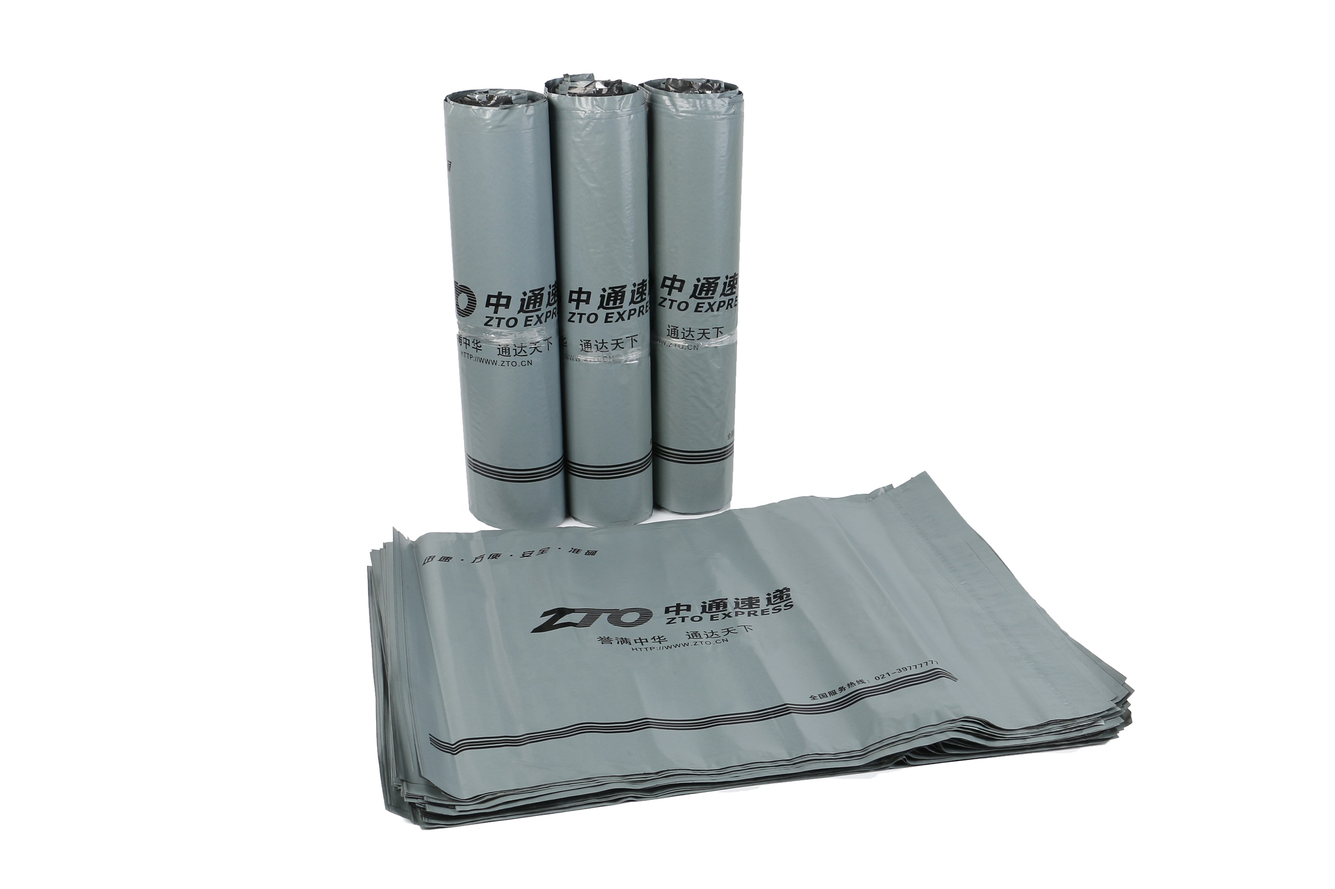塑料袋: (355, 453, 1137, 831), (443, 70, 754, 530)
